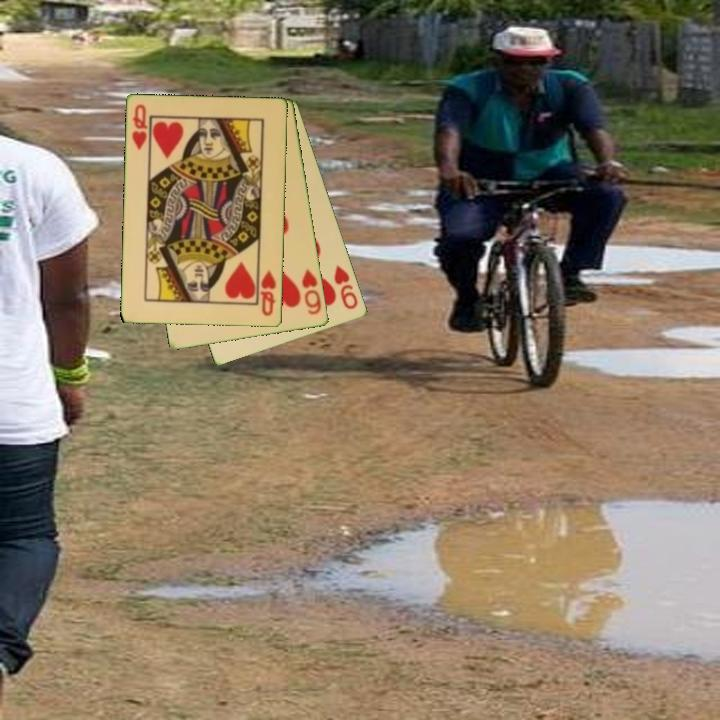6h: (298, 266, 324, 318)
9h: (331, 262, 361, 312)
Qh: (128, 101, 151, 153), (257, 267, 279, 319)
